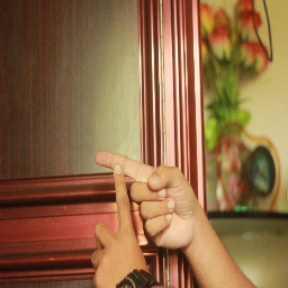T: (78, 139, 167, 259)
